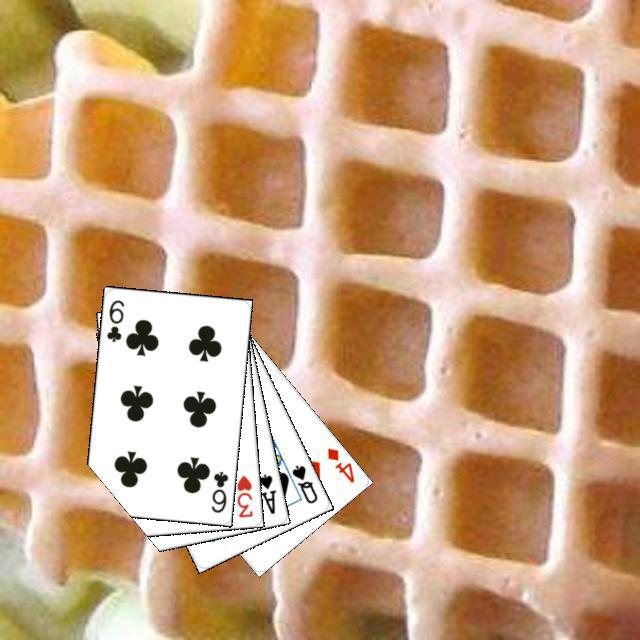3h: (232, 470, 254, 519)
4d: (322, 443, 356, 485)
6c: (206, 466, 230, 515), (102, 295, 126, 344)
As: (254, 469, 278, 516)
Qs: (287, 460, 319, 505)
